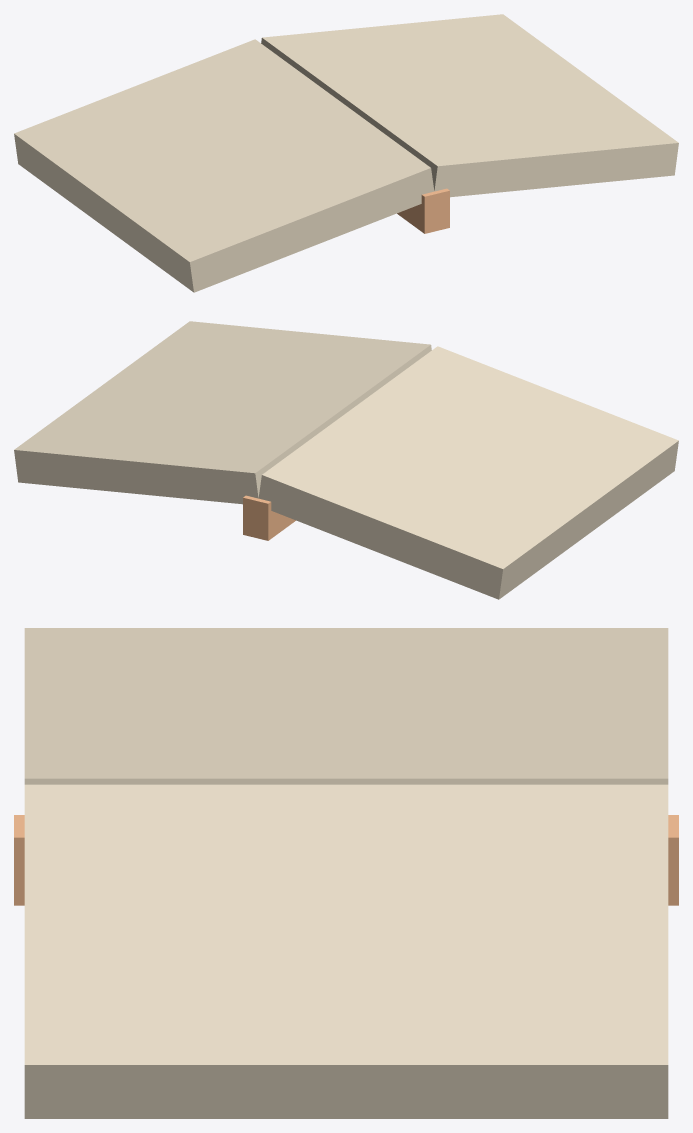
3 renders of one model, top to bottom at view 1: azimuth 30°, elevation 25°; view 2: azimuth 150°, elevation 25°; view 3: azimuth 270°, elevation 25°, orthographic. The views are drawn at different scales.
Visible parts, largest first — view 1: Open page, Open page.001, Spine; view 2: Open page, Open page.001, Spine; view 3: Open page.001, Open page, Spine.
Part boxes in pixels (x1,y1,x2,y2): Open page: [14, 39, 434, 292]; Open page.001: [261, 14, 678, 197]; Spine: [397, 188, 449, 233]; Open page: [258, 346, 678, 599]; Open page.001: [14, 321, 431, 504]; Spine: [243, 495, 295, 540]; Open page.001: [24, 784, 668, 1118]; Open page: [24, 628, 668, 784]; Spine: [14, 815, 678, 905].
Bounding box in the file's own units: 0.4818 × 0.0631 × 0.31.
1 material, 1 textured.
